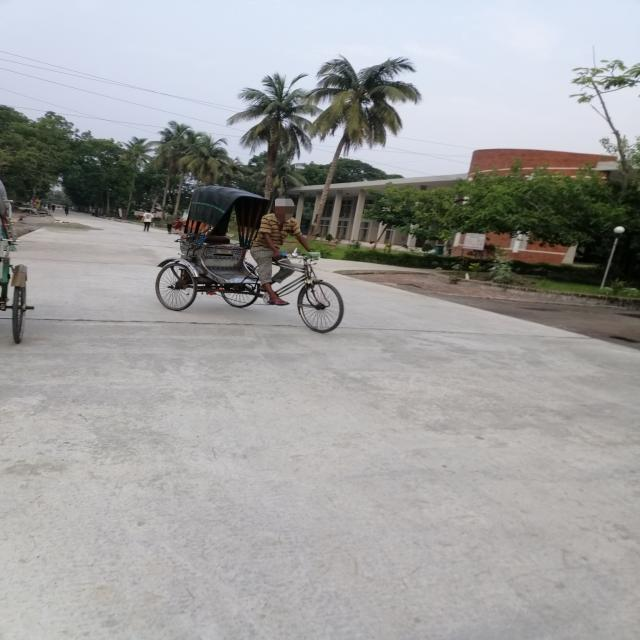Rickshaw: (154, 186, 353, 336)
